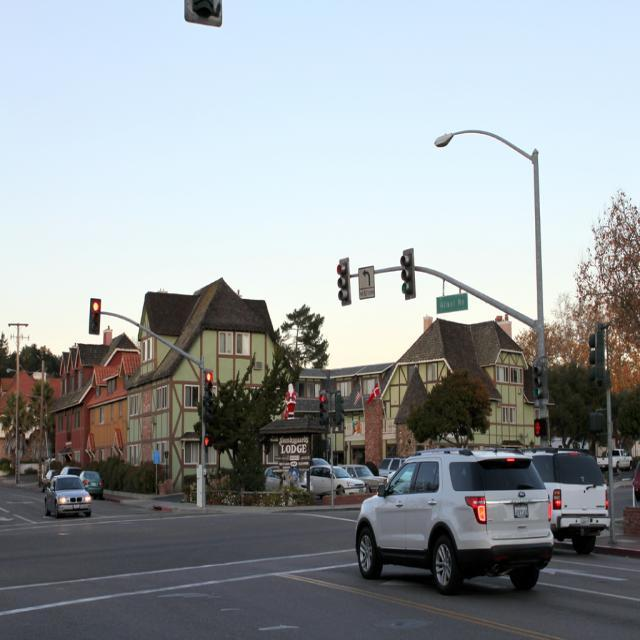off traffic light: (588, 322, 604, 386), (336, 394, 346, 424)
traffic light: (400, 249, 416, 300), (336, 256, 351, 306), (532, 358, 548, 400), (88, 299, 101, 336), (204, 369, 214, 402), (319, 393, 328, 423)
